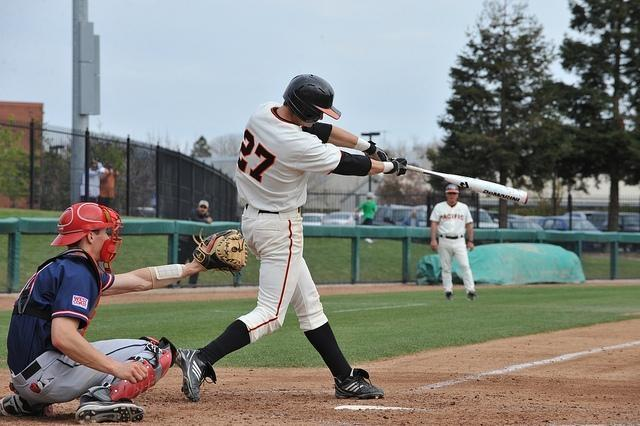car: (538, 213, 602, 231), (369, 204, 418, 224), (565, 210, 608, 230), (469, 207, 500, 228), (320, 210, 356, 226), (618, 212, 640, 232), (302, 212, 326, 226), (506, 220, 543, 229), (413, 205, 428, 226)
